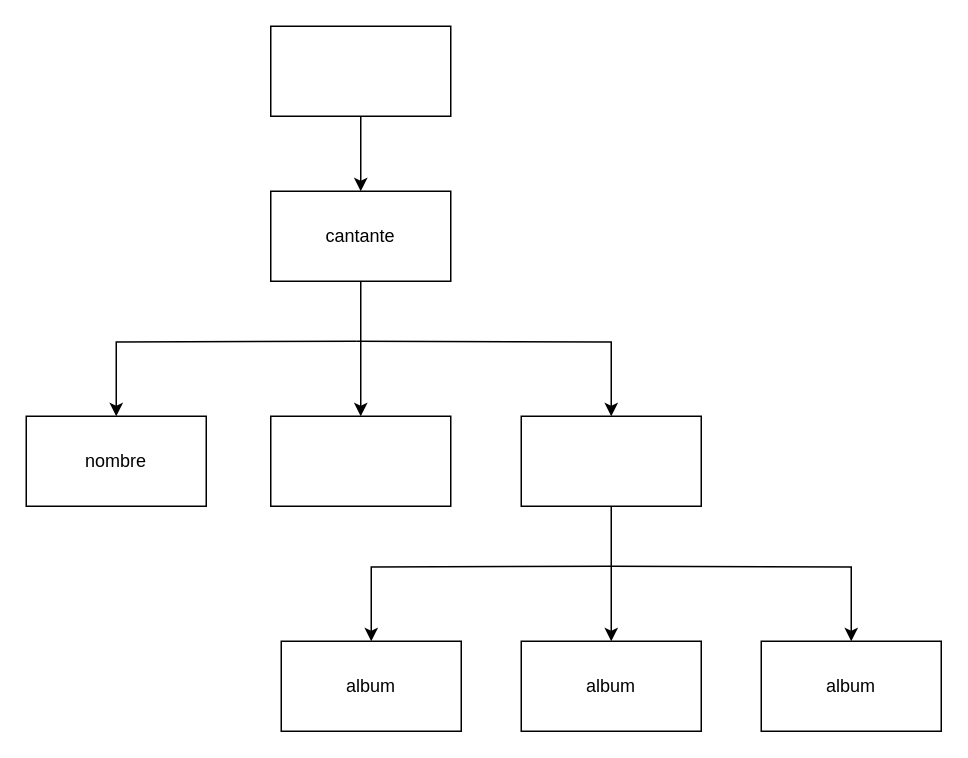
Image size: 968x758. Some labels were removed from this diagram. The centre of each missing label's shape, as x and y in pixels:
"albums" belongs at (x=610, y=460).
"artistas" belongs at (x=360, y=70).
"genero" belongs at (x=360, y=460).
